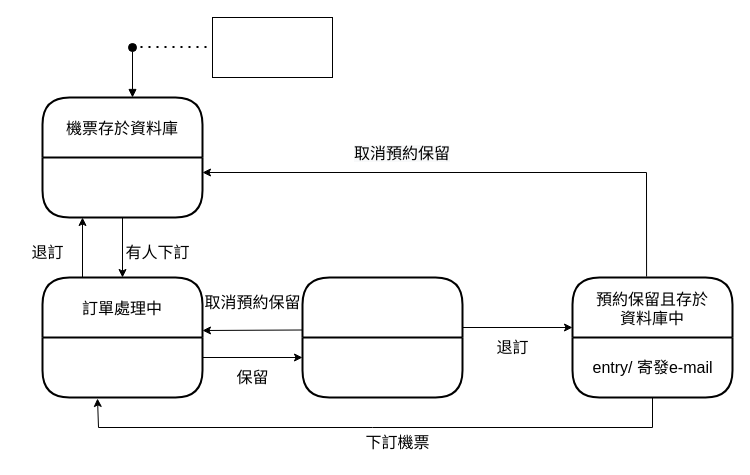
The diagram is 750 pixels wide and 475 high, and some of its shapes have lost their labels. The shapes that lost their labels are listed below. From the top down, each one's box as (x1, y1, x2, y2) in pixels, then its label:
(212, 16, 332, 78): 機票
(301, 276, 463, 398): 預約保留且 訂單處理中
